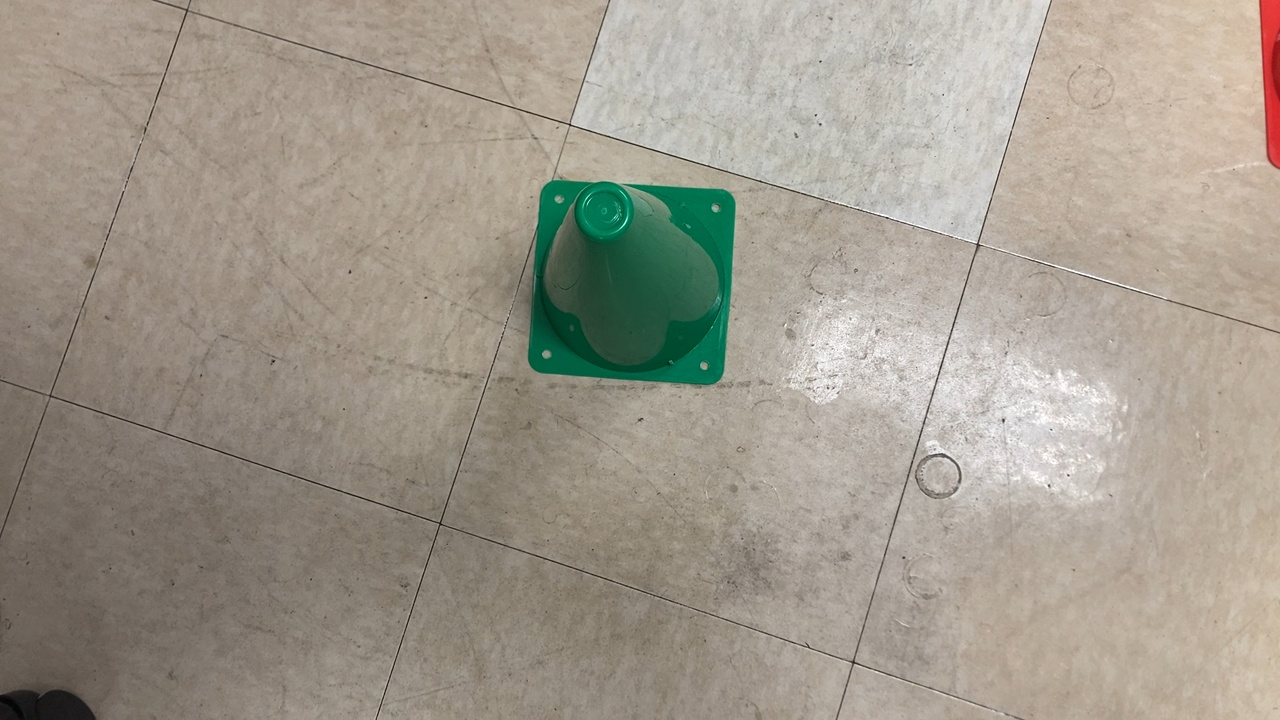green_cone: (521, 173, 737, 396)
